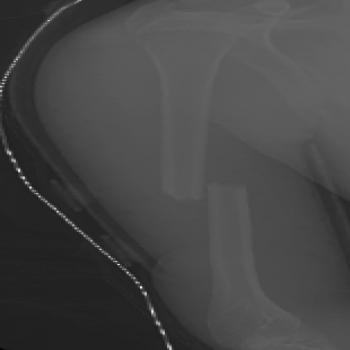Fracture: (160, 175, 254, 206)
